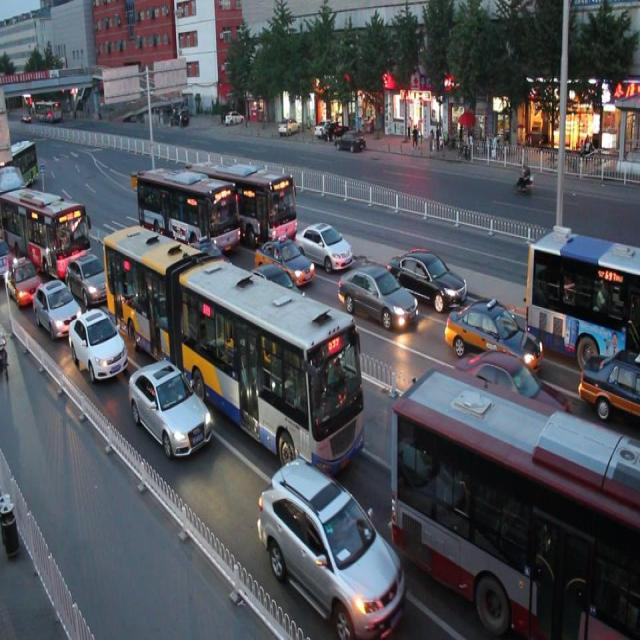car: (257, 454, 405, 640), (456, 345, 562, 437), (129, 355, 212, 460), (446, 294, 544, 382), (337, 258, 416, 331), (390, 243, 468, 309), (69, 306, 127, 384), (577, 346, 640, 415), (253, 230, 314, 289), (294, 214, 352, 273), (250, 256, 305, 314), (181, 236, 236, 290), (36, 278, 82, 342), (0, 250, 42, 307), (67, 250, 110, 302)
van: (102, 218, 366, 482), (391, 368, 639, 640), (524, 225, 640, 360), (136, 160, 240, 262), (191, 153, 298, 248), (1, 182, 90, 272)
